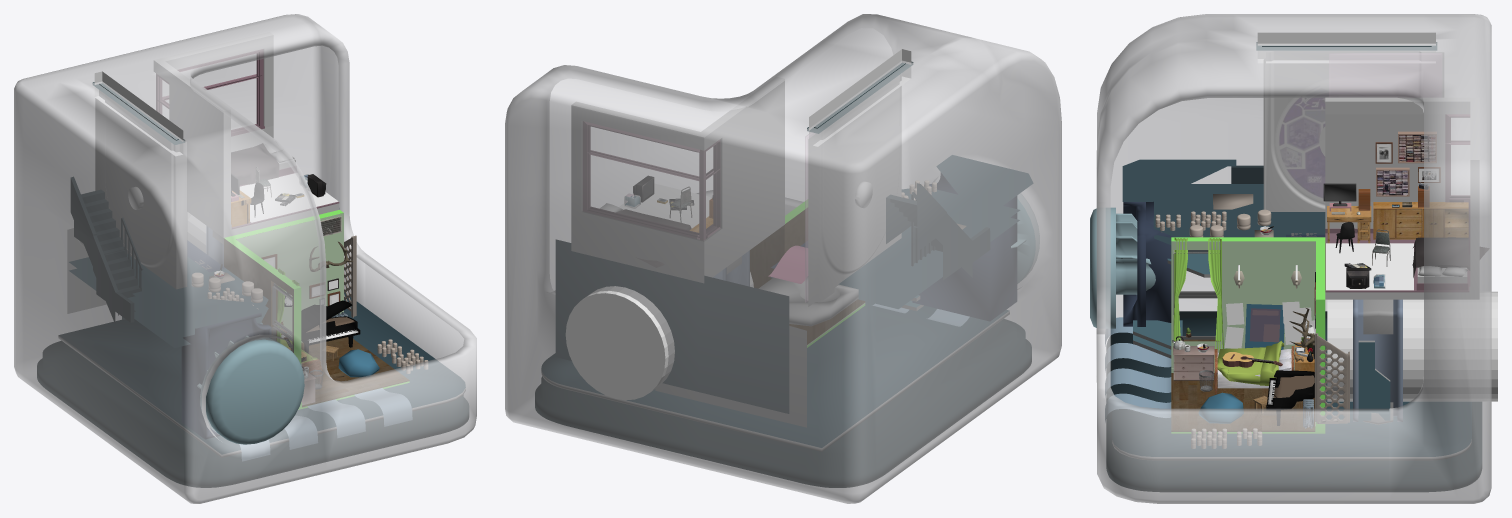
Rendered from emotion_engine_room.glb.
3 views of the same model, side by side, from view 1: azimuth 30°, elevation 25°; view 2: azimuth 150°, elevation 25°; view 3: azimuth 270°, elevation 25° (orthographic). The views are drawn at different scales.
Visible parts, largest first — view 1: Cube V1.001, Base, Base Board, ROOM, Plane.007, ROOM.002, Button, Stairs, Button Solid, Ribbon.002, Plane.035, Plane.011 (+13 smaller); view 2: Cube V1.001, Base, ROOM, Base Board, Plane.010, Plane.007, Cylinder, Button Solid, Plane.035, Stairs, Plane.011, ROOM.002 (+9 smaller); view 3: Cube V1.001, Base Board, ROOM, Plane.007, ROOM.002, Base, Cylinder, Plane.035, Disc Cover, Circle.001, Button, Button Solid (+35 smaller).
Part boxes in pixels (x1=…): Cube V1.001: x1=14, y1=14, x2=476, y2=503; Base: x1=37, y1=341, x2=468, y2=487; Base Board: x1=58, y1=292, x2=465, y2=457; ROOM: x1=154, y1=32, x2=339, y2=237; Plane.007: x1=95, y1=90, x2=186, y2=288; ROOM.002: x1=224, y1=210, x2=409, y2=409; Button: x1=197, y1=336, x2=304, y2=444; Stairs: x1=71, y1=177, x2=141, y2=322; Button Solid: x1=182, y1=313, x2=271, y2=439; Ribbon.002: x1=239, y1=388, x2=412, y2=461; Plane.035: x1=69, y1=240, x2=267, y2=339; Plane.011: x1=133, y1=291, x2=261, y2=328; Cube V1.001: x1=505, y1=14, x2=1061, y2=503; Base: x1=535, y1=319, x2=1031, y2=487; ROOM: x1=571, y1=81, x2=784, y2=282; Base Board: x1=541, y1=301, x2=1009, y2=451; Plane.010: x1=556, y1=239, x2=788, y2=413; Plane.007: x1=808, y1=74, x2=901, y2=306; Cylinder: x1=565, y1=272, x2=753, y2=400; Button Solid: x1=912, y1=173, x2=1016, y2=321; Plane.035: x1=771, y1=189, x2=1019, y2=298; Stairs: x1=886, y1=183, x2=989, y2=279; Plane.011: x1=936, y1=155, x2=1033, y2=219; ROOM.002: x1=750, y1=200, x2=864, y2=347; Cube V1.001: x1=1096, y1=14, x2=1491, y2=503; Base Board: x1=1112, y1=318, x2=1471, y2=460; ROOM: x1=1325, y1=97, x2=1479, y2=299; Plane.007: x1=1263, y1=51, x2=1443, y2=211; ROOM.002: x1=1171, y1=237, x2=1325, y2=433; Base: x1=1106, y1=311, x2=1481, y2=491; Cylinder: x1=1327, y1=291, x2=1497, y2=401; Plane.035: x1=1153, y1=184, x2=1325, y2=237; Disc Cover: x1=1329, y1=53, x2=1441, y2=96; Circle.001: x1=1275, y1=98, x2=1324, y2=202; Button: x1=1090, y1=207, x2=1155, y2=328; Button Solid: x1=1123, y1=201, x2=1174, y2=326.
Size of the model in its own units: 6.34 by 6.03 by 6.55.
Materials: 115 (51 with a texture image).
